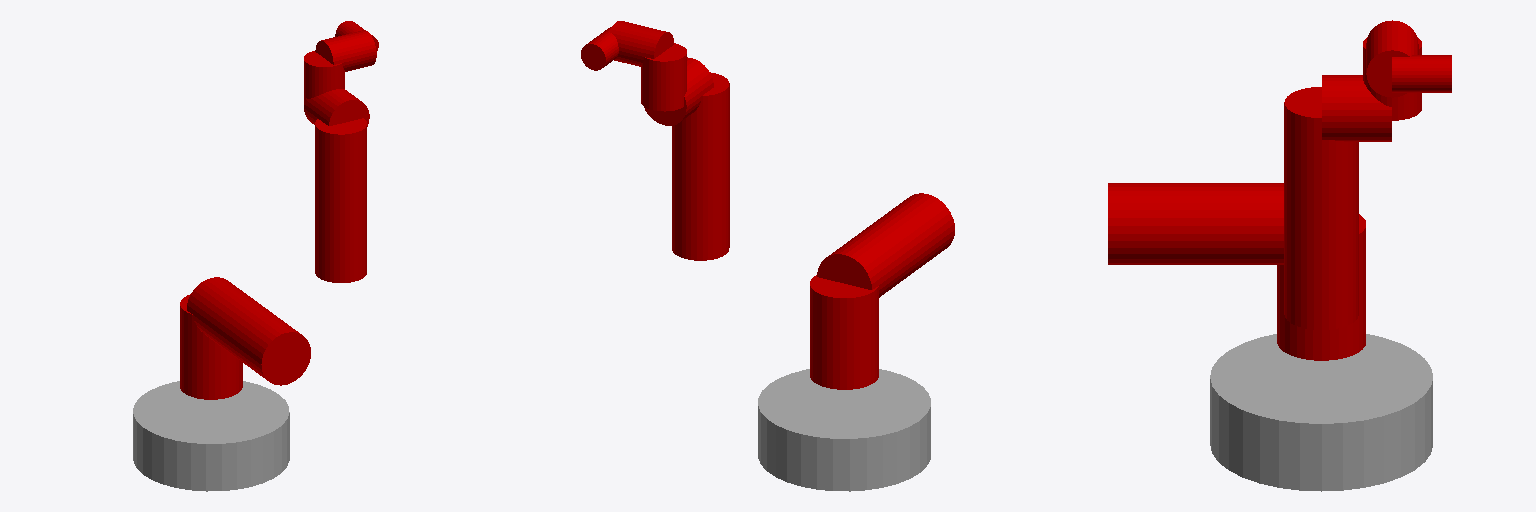
The robot description file, URDF, robot "right_arm_robot":
<?xml version="1.0"?>
<robot name="right_arm_robot">

  <!-- Material definitions -->
  <material name="red">
    <color rgba="0.8 0 0 1"/>
  </material>
  <material name="gray">
    <color rgba="0.7 0.7 0.7 1"/>
  </material>

  <!-- Base Link -->
  <link name="right_base_link">
    <visual>
      <geometry>
        <cylinder length="0.1" radius="0.15"/>
      </geometry>
      <material name="gray"/>
    </visual>
    <collision>
      <geometry>
        <cylinder length="0.1" radius="0.15"/>
      </geometry>
    </collision>
    <inertial>
      <origin xyz="0 0 0" rpy="0 0 0"/>
      <mass value="5.0"/>
      <inertia ixx="0.1" ixy="0" ixz="0" iyy="0.1" iyz="0" izz="0.1"/>
    </inertial>
  </link>

  <!-- Joint 1 -->
  <joint name="right_joint1" type="revolute">
    <parent link="right_base_link"/>
    <child link="right_link1"/>
    <origin xyz="0 0 0.1017" rpy="0 0 0"/>
    <axis xyz="0 0 1"/>
    <limit lower="-2.96706" upper="2.96706" effort="180" velocity="4.0407"/>
  </joint>

  <link name="right_link1">
    <visual>
      <geometry>
        <cylinder length="0.1745" radius="0.06"/>
      </geometry>
      <material name="red"/>
      <origin xyz="0 0 0.08725" rpy="0 0 0"/>
    </visual>
    <collision>
      <geometry>
        <cylinder length="0.1745" radius="0.06"/>
      </geometry>
      <origin xyz="0 0 0.08725" rpy="0 0 0"/>
    </collision>
    <inertial>
      <origin xyz="0 -0.002084 -0.030418" rpy="0 0 0"/>
      <mass value="4.0407"/>
      <inertia ixx="0.104651" ixy="0" ixz="0" iyy="0.104651" iyz="0" izz="0.104651"/>
    </inertial>
  </link>

  <!-- Joint 2 -->
  <joint name="right_joint2" type="revolute">
    <parent link="right_link1"/>
    <child link="right_link2"/>
    <origin xyz="0 0 0.1745" rpy="1.5708 0 0"/>
    <axis xyz="0 0 1"/>
    <limit lower="-2.0944" upper="2.0944" effort="180" velocity="2.77241"/>
  </joint>

  <link name="right_link2">
    <visual>
      <geometry>
        <cylinder length="0.287" radius="0.055"/>
      </geometry>
      <material name="red"/>
      <origin xyz="0 0 0.1435" rpy="0 0 0"/>
    </visual>
    <collision>
      <geometry>
        <cylinder length="0.287" radius="0.055"/>
      </geometry>
      <origin xyz="0 0 0.1435" rpy="0 0 0"/>
    </collision>
    <inertial>
      <origin xyz="-0.008095 0.151407 -0.045915" rpy="0 0 0"/>
      <mass value="2.77241"/>
      <inertia ixx="0.027234" ixy="-0.002166" ixz="0.0024" iyy="0.036772" iyz="0.011008" izz="0.052656"/>
    </inertial>
  </link>

  <!-- Joint 3 -->
  <joint name="right_joint3" type="revolute">
    <parent link="right_link2"/>
    <child link="right_link3"/>
    <origin xyz="0.287 0 0" rpy="-1.5708 0 0"/>
    <axis xyz="0 0 1"/>
    <limit lower="-2.96706" upper="2.96706" effort="180" velocity="3.6913"/>
  </joint>

  <link name="right_link3">
    <visual>
      <geometry>
        <cylinder length="0.314" radius="0.05"/>
      </geometry>
      <material name="red"/>
      <origin xyz="0 0 0.157" rpy="0 0 0"/>
    </visual>
    <collision>
      <geometry>
        <cylinder length="0.314" radius="0.05"/>
      </geometry>
      <origin xyz="0 0 0.157" rpy="0 0 0"/>
    </collision>
    <inertial>
      <origin xyz="0.007463 -0.009788 -0.208974" rpy="0 0 0"/>
      <mass value="3.6913"/>
      <inertia ixx="0" ixy="0" ixz="0" iyy="0" iyz="0" izz="0"/>
    </inertial>
  </link>

  <!-- Joint 4 -->
  <joint name="right_joint4" type="revolute">
    <parent link="right_link3"/>
    <child link="right_link4"/>
    <origin xyz="0.018 0 0.314" rpy="1.5708 0 3.14159"/>
    <axis xyz="0 0 1"/>
    <limit lower="-2.44346" upper="1.36136" effort="180" velocity="3.08149"/>
  </joint>

  <link name="right_link4">
    <visual>
      <geometry>
        <cylinder length="0.095" radius="0.045"/>
      </geometry>
      <material name="red"/>
      <origin xyz="0 0 0.0475" rpy="0 0 0"/>
    </visual>
    <collision>
      <geometry>
        <cylinder length="0.095" radius="0.045"/>
      </geometry>
      <origin xyz="0 0 0.0475" rpy="0 0 0"/>
    </collision>
    <inertial>
      <origin xyz="0.025708 -0.185959 -0.006434" rpy="0 0 0"/>
      <mass value="3.08149"/>
      <inertia ixx="0" ixy="0" ixz="0" iyy="0" iyz="0" izz="0"/>
    </inertial>
  </link>

  <!-- Joint 5 -->
  <joint name="right_joint5" type="revolute">
    <parent link="right_link4"/>
    <child link="right_link5"/>
    <origin xyz="0 0 0.095" rpy="1.5708 0 3.14159"/>
    <axis xyz="0 0 1"/>
    <limit lower="-2.96706" upper="2.96706" effort="180" velocity="0.722775"/>
  </joint>

  <link name="right_link5">
    <visual>
      <geometry>
        <cylinder length="0.095" radius="0.04"/>
      </geometry>
      <material name="red"/>
      <origin xyz="0 0 0.0475" rpy="0 0 0"/>
    </visual>
    <collision>
      <geometry>
        <cylinder length="0.095" radius="0.04"/>
      </geometry>
      <origin xyz="0 0 0.0475" rpy="0 0 0"/>
    </collision>
    <inertial>
      <origin xyz="0.002029 0.010335 -0.088594" rpy="0 0 0"/>
      <mass value="0.722775"/>
      <inertia ixx="0.001163" ixy="0.000035" ixz="0.000167" iyy="0.00114" iyz="-0.000232" izz="0.000073"/>
    </inertial>
  </link>

  <!-- Joint 6 -->
  <joint name="right_joint6" type="revolute">
    <parent link="right_link5"/>
    <child link="right_link6"/>
    <origin xyz="0 0 0.095" rpy="1.5708 0 1.5708"/>
    <axis xyz="0 0 1"/>
    <limit lower="-1.0472" upper="1.0472" effort="180" velocity="0.086246"/>
  </joint>

  <link name="right_link6">
    <visual>
      <geometry>
        <cylinder length="0.095" radius="0.035"/>
      </geometry>
      <material name="red"/>
      <origin xyz="0 0 0.0475" rpy="0 0 0"/>
    </visual>
    <collision>
      <geometry>
        <cylinder length="0.095" radius="0.035"/>
      </geometry>
      <origin xyz="0 0 0.0475" rpy="0 0 0"/>
    </collision>
    <inertial>
      <origin xyz="0.040207 -0.009178 -0.027294" rpy="0 0 0"/>
      <mass value="0.086246"/>
      <inertia ixx="0" ixy="0" ixz="0" iyy="0" iyz="0" izz="0"/>
    </inertial>
  </link>

  <!-- Joint 7 -->
  <joint name="right_joint7" type="revolute">
    <parent link="right_link6"/>
    <child link="right_tool0"/>
    <origin xyz="0 0 0.095" rpy="1.5708 0 1.5708"/>
    <axis xyz="0 0 1"/>
    <limit lower="-1.5708" upper="1.5708" effort="180" velocity="0.605077"/>
  </joint>

  <!-- End Effector -->
  <link name="right_tool0">
    <visual>
      <geometry>
        <cylinder length="0.08" radius="0.025"/>
      </geometry>
      <material name="red"/>
      <origin xyz="0 0 0.04" rpy="0 0 0"/>
    </visual>
    <collision>
      <geometry>
        <cylinder length="0.08" radius="0.025"/>
      </geometry>
      <origin xyz="0 0 0.04" rpy="0 0 0"/>
    </collision>
    <inertial>
      <origin xyz="0 0 0.04" rpy="0 0 0"/>
      <mass value="0.5"/>
      <inertia ixx="0.001" ixy="0" ixz="0" iyy="0.001" iyz="0" izz="0.001"/>
    </inertial>
  </link>

</robot>

--- What the picture shows (computed from the rendered views, not written in the file) ---
3 views of the same robot in one strip: view 1: azimuth 30°, elevation 25°; view 2: azimuth 150°, elevation 25°; view 3: azimuth 270°, elevation 25° (orthographic).
Model right_arm_robot with 8 links and 7 joints (7 revolute), rooted at right_base_link, posed all joints at 0.
Visible links, largest first — view 1: right_base_link, right_link3, right_link2, right_link1, right_link6, right_link4, right_link5; view 2: right_base_link, right_link3, right_link2, right_link1, right_link5, right_link6, right_link4, right_tool0; view 3: right_base_link, right_link3, right_link2, right_link4, right_link1, right_link6, right_tool0, right_link5.
Link boxes in pixels (bbox=[...]): right_base_link: bbox=[133, 381, 289, 491]; right_link3: bbox=[315, 118, 366, 282]; right_link2: bbox=[187, 277, 310, 385]; right_link1: bbox=[180, 294, 242, 399]; right_link6: bbox=[315, 30, 376, 71]; right_link4: bbox=[304, 89, 369, 126]; right_link5: bbox=[304, 51, 344, 104]; right_base_link: bbox=[758, 369, 930, 491]; right_link3: bbox=[672, 72, 729, 260]; right_link2: bbox=[817, 193, 954, 297]; right_link1: bbox=[810, 275, 878, 389]; right_link5: bbox=[641, 43, 686, 111]; right_link6: bbox=[610, 21, 673, 66]; right_link4: bbox=[644, 57, 713, 125]; right_tool0: bbox=[581, 27, 618, 70]; right_base_link: bbox=[1210, 334, 1432, 491]; right_link3: bbox=[1284, 87, 1358, 329]; right_link2: bbox=[1108, 183, 1283, 264]; right_link4: bbox=[1322, 75, 1391, 141]; right_link1: bbox=[1277, 214, 1365, 360]; right_link6: bbox=[1366, 20, 1418, 97]; right_tool0: bbox=[1392, 55, 1451, 92]; right_link5: bbox=[1363, 37, 1421, 120].
Bounding box of the posed robot: 0.575 × 0.462 × 0.7702 m (x, y, z).
Geometry: primitives only (box / cylinder / sphere), no mesh files.
